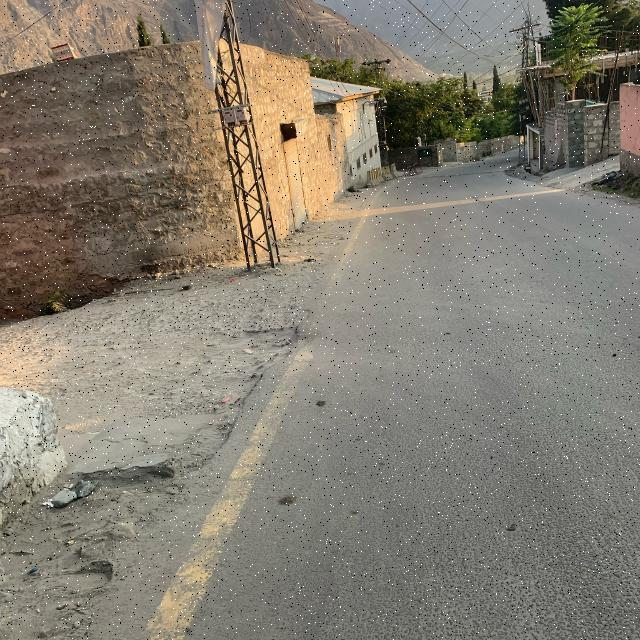left: (2, 260, 312, 438)
